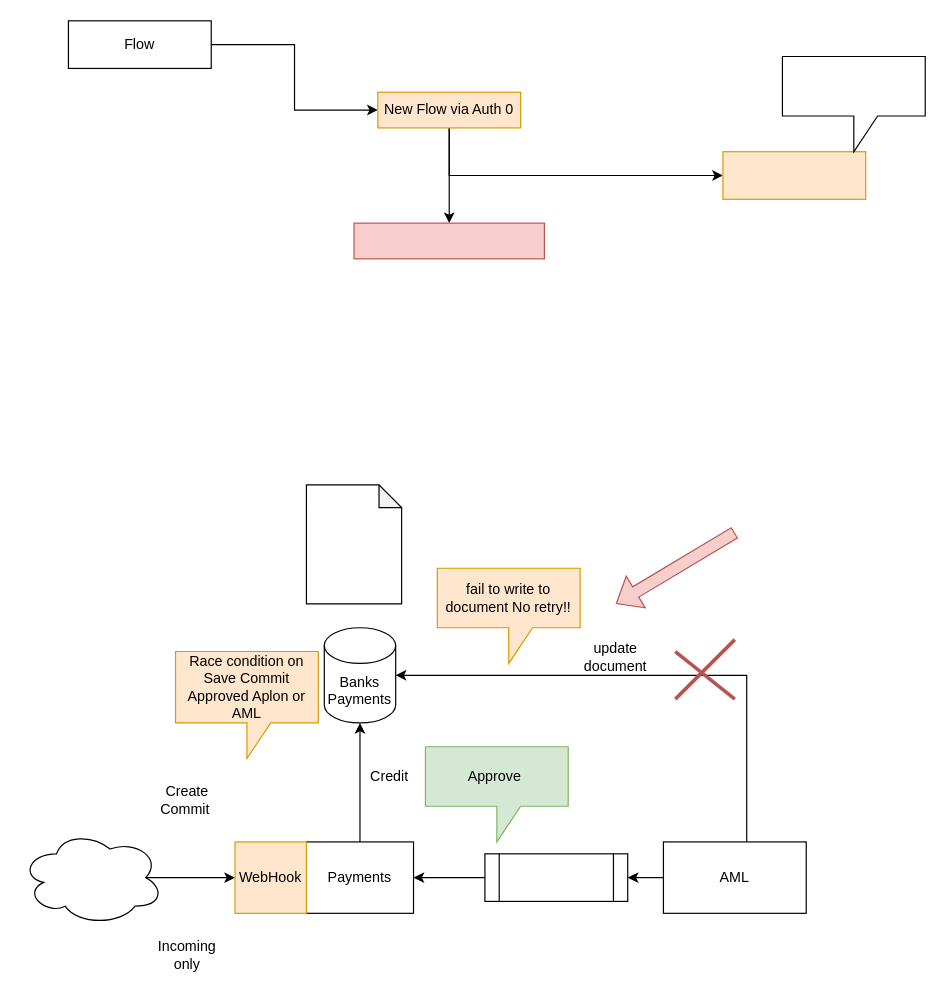
Image size: 946x994. Some labels were removed from this diagram. The shapes that lost their labels are listed below. From the top down, each one's box as (x1, y1, x2, y2) in pixels, then its label:
(722, 151, 866, 199): Web UI Request for Auth screen
(353, 222, 544, 259): Screen Timeline Dialogs
(305, 484, 402, 604): SEPA suspense AML = NULL
(20, 829, 164, 925): APLON HUB
(484, 853, 628, 901): AML Approve
